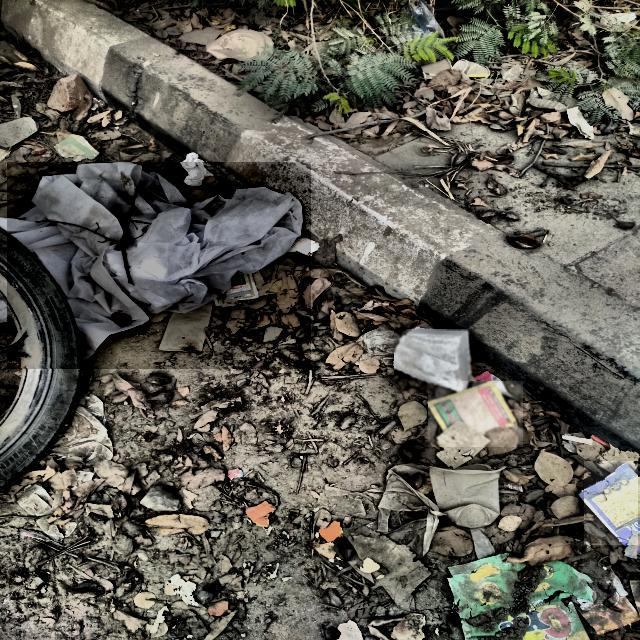anorganik: (8, 163, 310, 368), (429, 381, 523, 447), (394, 329, 478, 393), (584, 462, 639, 545)
